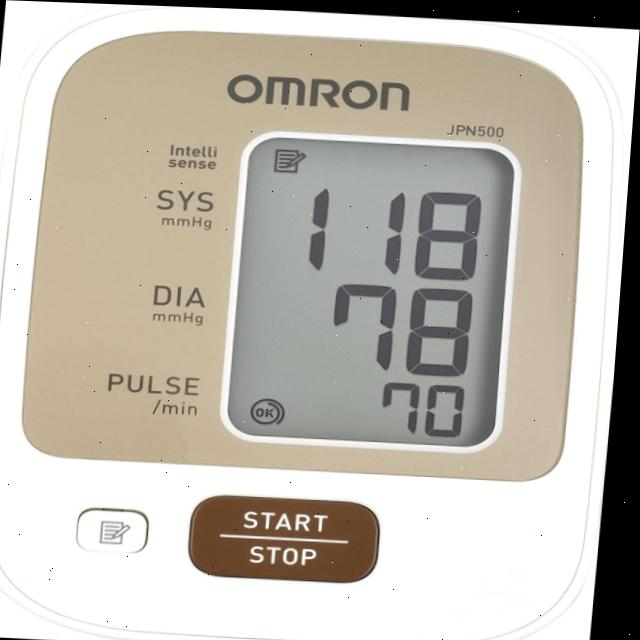dia: (321, 274, 481, 376)
pul: (378, 374, 482, 444)
ssd: (234, 127, 516, 451)
sys: (287, 173, 488, 276)
